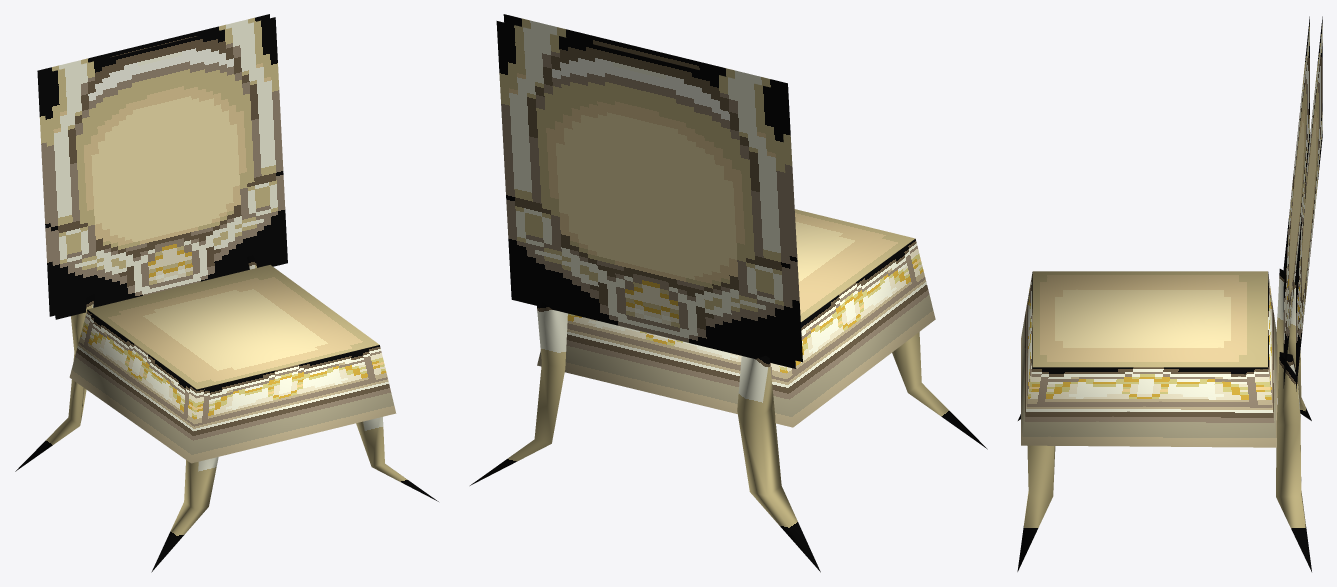
3 renders of one model, left to right at view 1: azimuth 30°, elevation 25°; view 2: azimuth 150°, elevation 25°; view 3: azimuth 270°, elevation 25°, orthographic. The views are drawn at different scales.
Parts seen in each view (by area): view 1: 3085IMRL06_03; view 2: 3085IMRL06_03; view 3: 3085IMRL06_03.
Boxes of the visible parts, bbox=[...] form: 3085IMRL06_03: bbox=[15, 14, 438, 572]; 3085IMRL06_03: bbox=[470, 14, 987, 572]; 3085IMRL06_03: bbox=[1017, 16, 1322, 571].
Bounding box in the file's own units: 1.02 × 1.32 × 0.8669.
3 materials, 3 textured.
